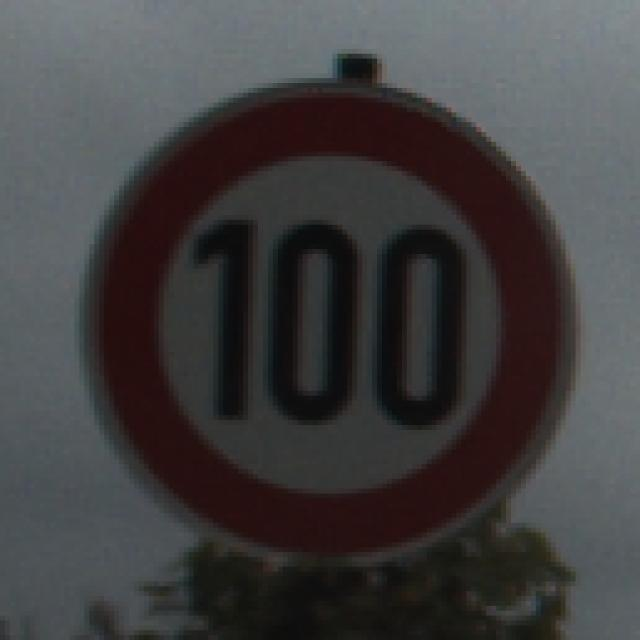speed limit 100: (76, 80, 578, 569)
